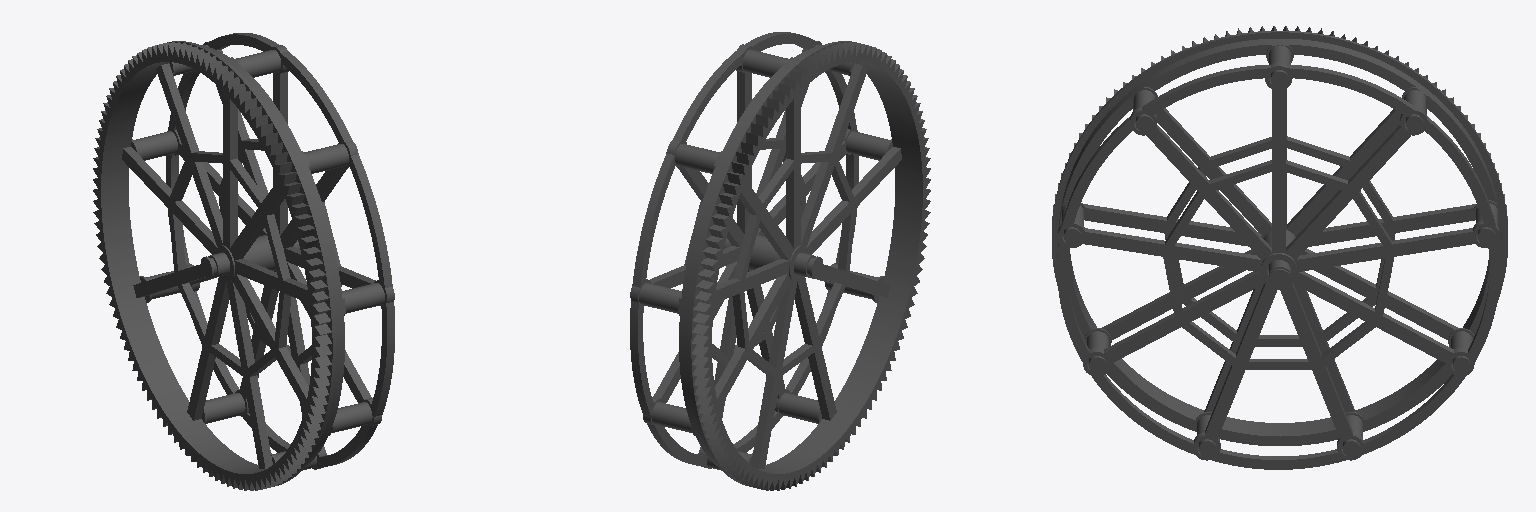
The model's file is aro_roda_gigante.obj.
3 views of the same model, side by side, from view 1: azimuth 30°, elevation 25°; view 2: azimuth 150°, elevation 25°; view 3: azimuth 270°, elevation 25° (orthographic).
Parts seen in each view (by area): view 1: Wheel, WheelCover; view 2: Wheel, WheelCover; view 3: Wheel, WheelCover.
Part boxes in pixels (left/top/right/bottom): Wheel: left=93, top=41, right=384, bottom=490; WheelCover: left=166, top=33, right=394, bottom=469; Wheel: left=630, top=41, right=930, bottom=490; WheelCover: left=630, top=32, right=858, bottom=468; Wheel: left=1052, top=26, right=1507, bottom=457; WheelCover: left=1057, top=62, right=1499, bottom=469.
Size of the model in its own units: 50 by 200 by 200.